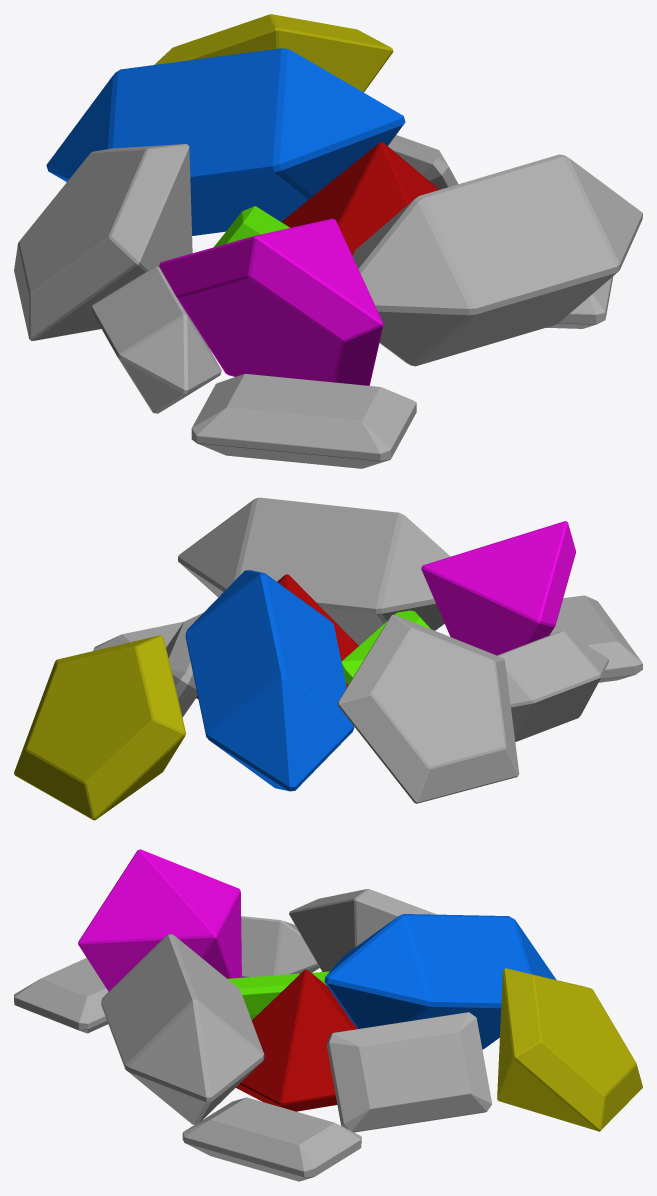
Rendered from Gem_Pile.fbx.
The picture shows the model from 3 angles, top to bottom: view 1: azimuth 30°, elevation 25°; view 2: azimuth 150°, elevation 25°; view 3: azimuth 270°, elevation 25°; orthographic projection. The views are drawn at different scales.
Visible parts, largest first — view 1: group40; view 2: group40; view 3: group40.
Part boxes in pixels (x1,y1,x2,y2): group40: (14, 14, 642, 468); group40: (14, 497, 642, 820); group40: (14, 849, 642, 1181).
Bounding box in the file's own units: 386 × 151 × 489.
